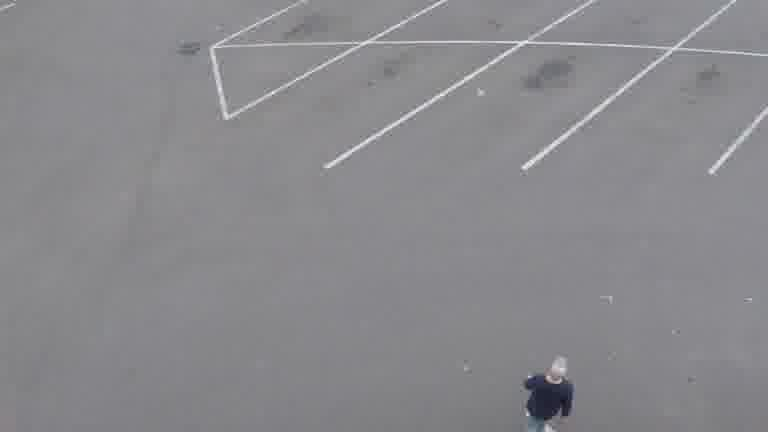cycle: (524, 352, 575, 430)
